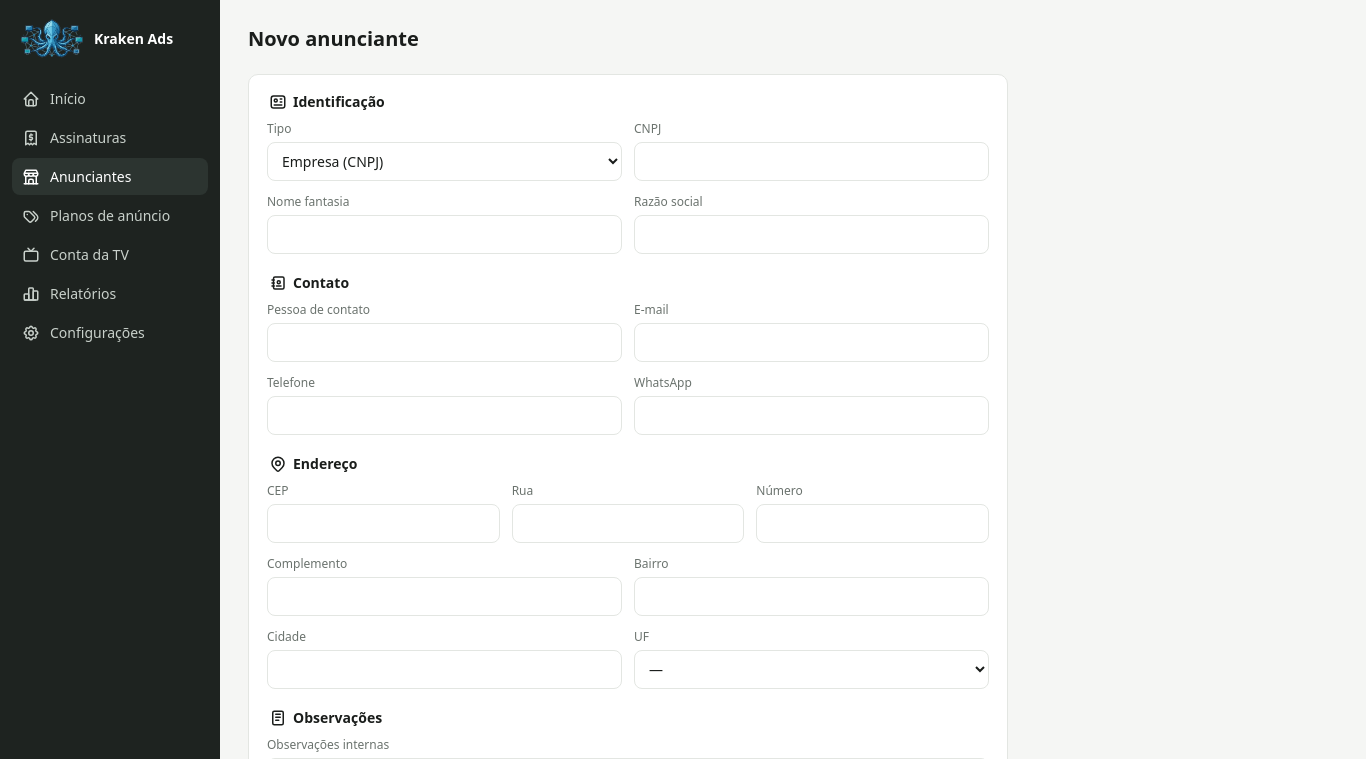
advertisers › creates a company with masked inputs sending digits only
Type "Clínica Vida" into the field labelled "Nome fantasia" at (444, 234), box [267,215,622,254]
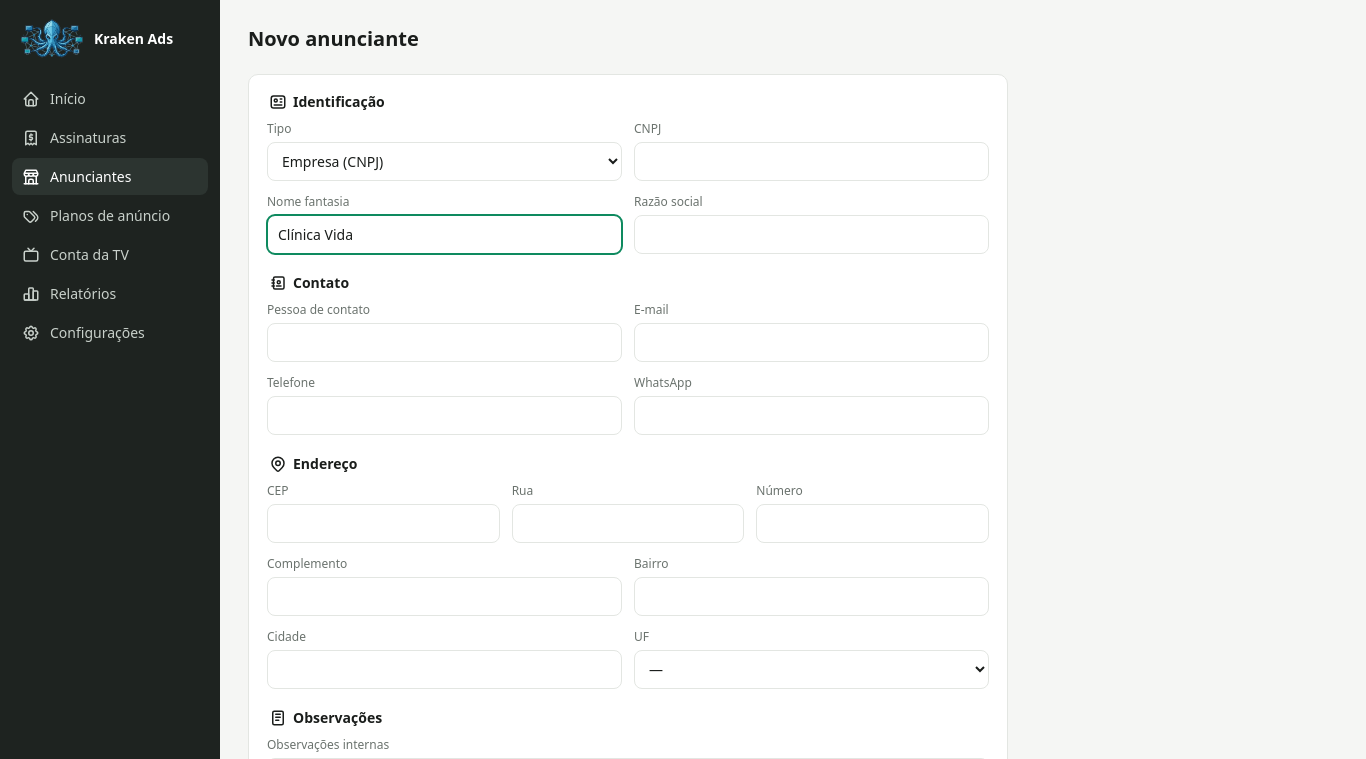
Type "11222333000181" into the field labelled "CNPJ" at (812, 162), box [634,142,989,181]
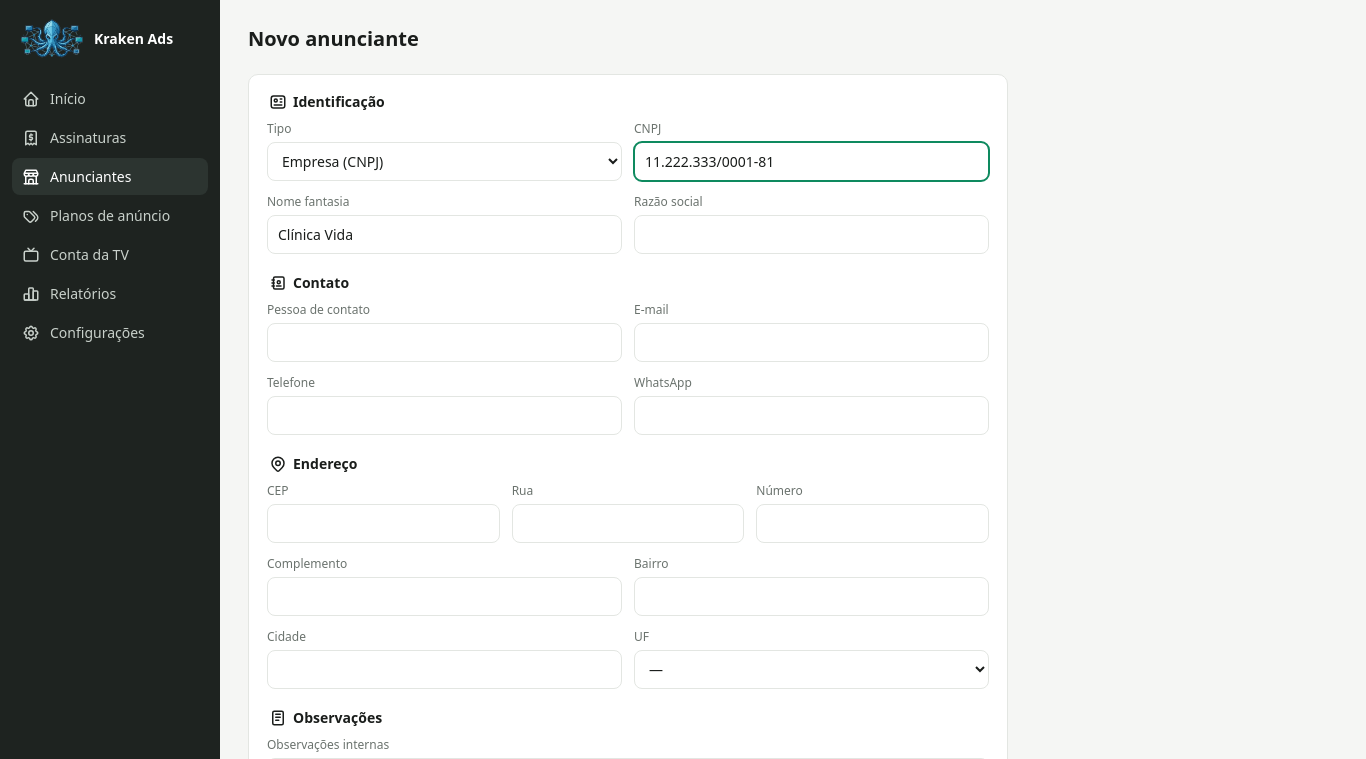
Expected: the field labelled "CNPJ" holds "11.222.333/0001-81", [634,142,989,181]
Type "01001000" into the field labelled "CEP" at (383, 524), box [267,504,500,543]
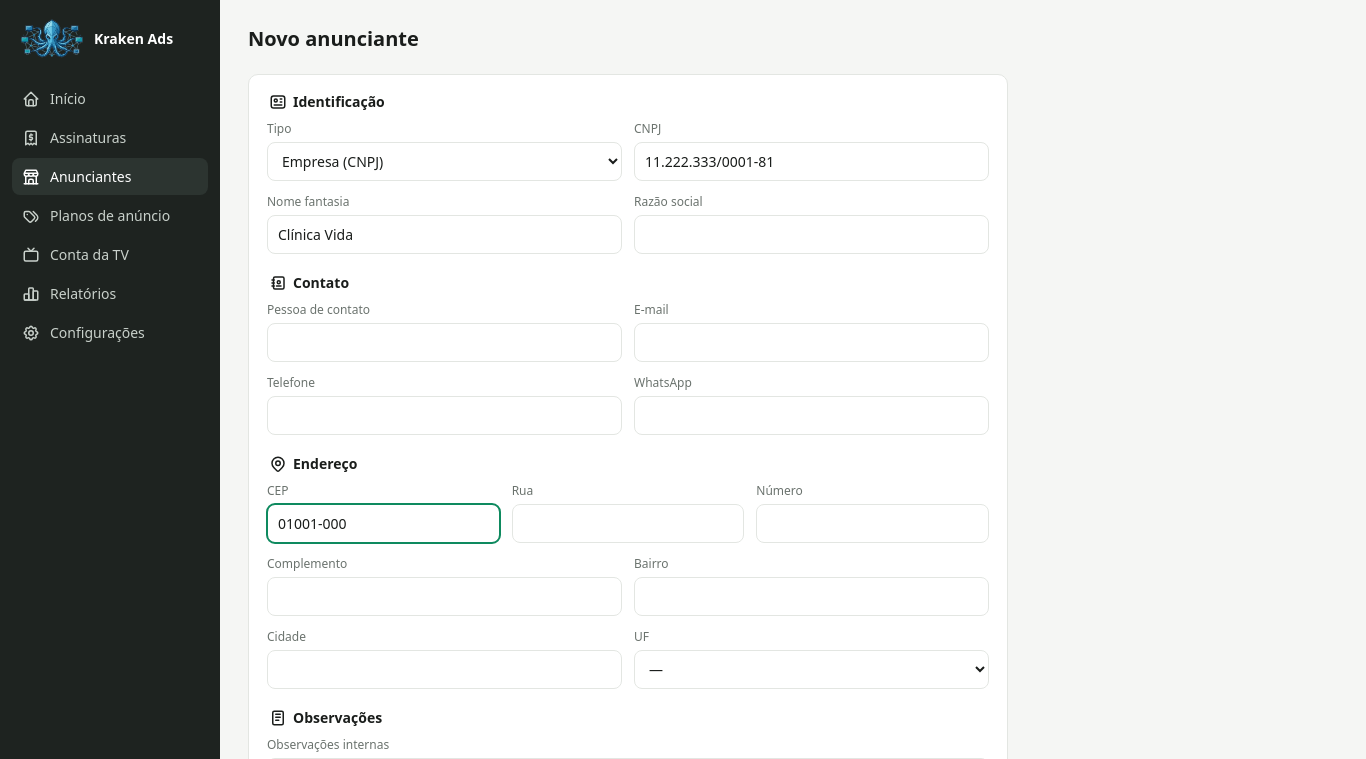
Select "SP" in the dropdown labelled "UF" at (812, 670), box [634,650,989,689]
(page scrolled)
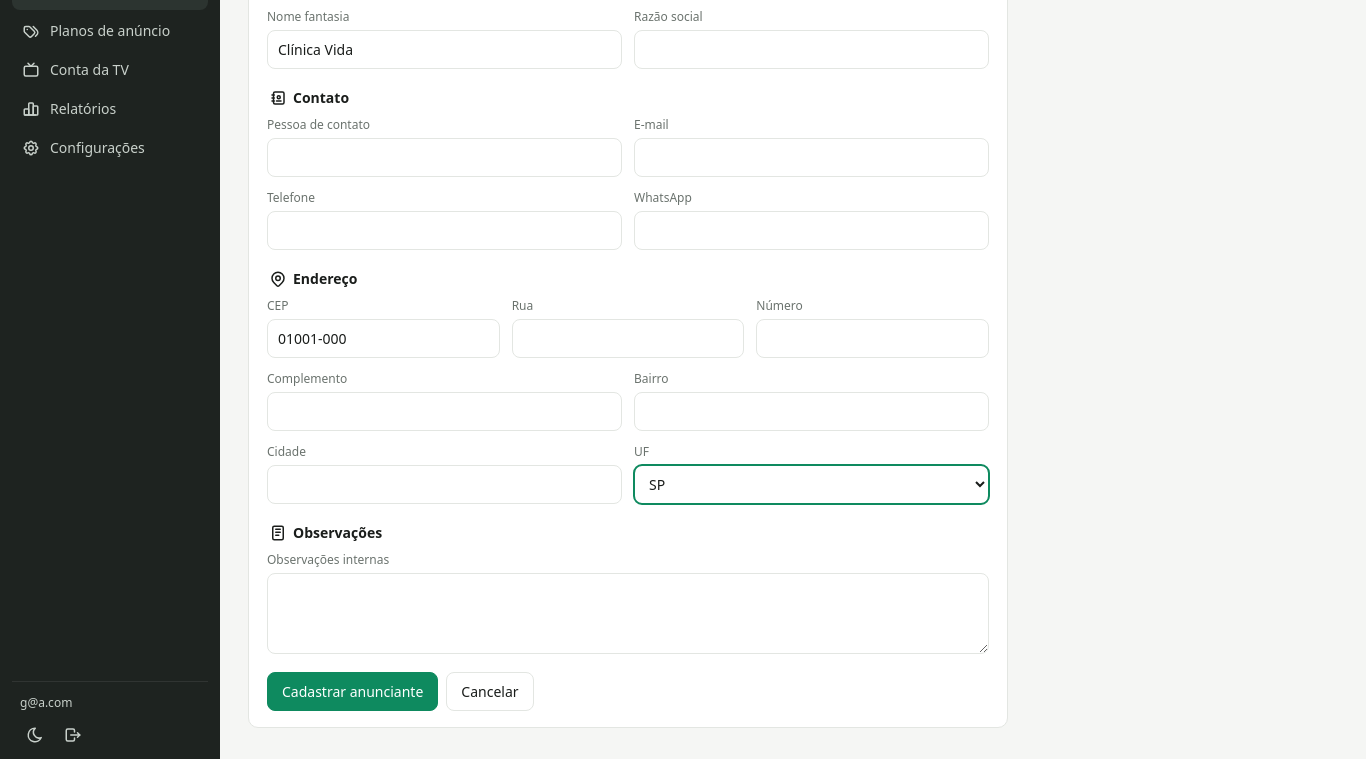
Click the button "Cadastrar anunciante" at (353, 692), box [267,672,438,711]
(page scrolled)
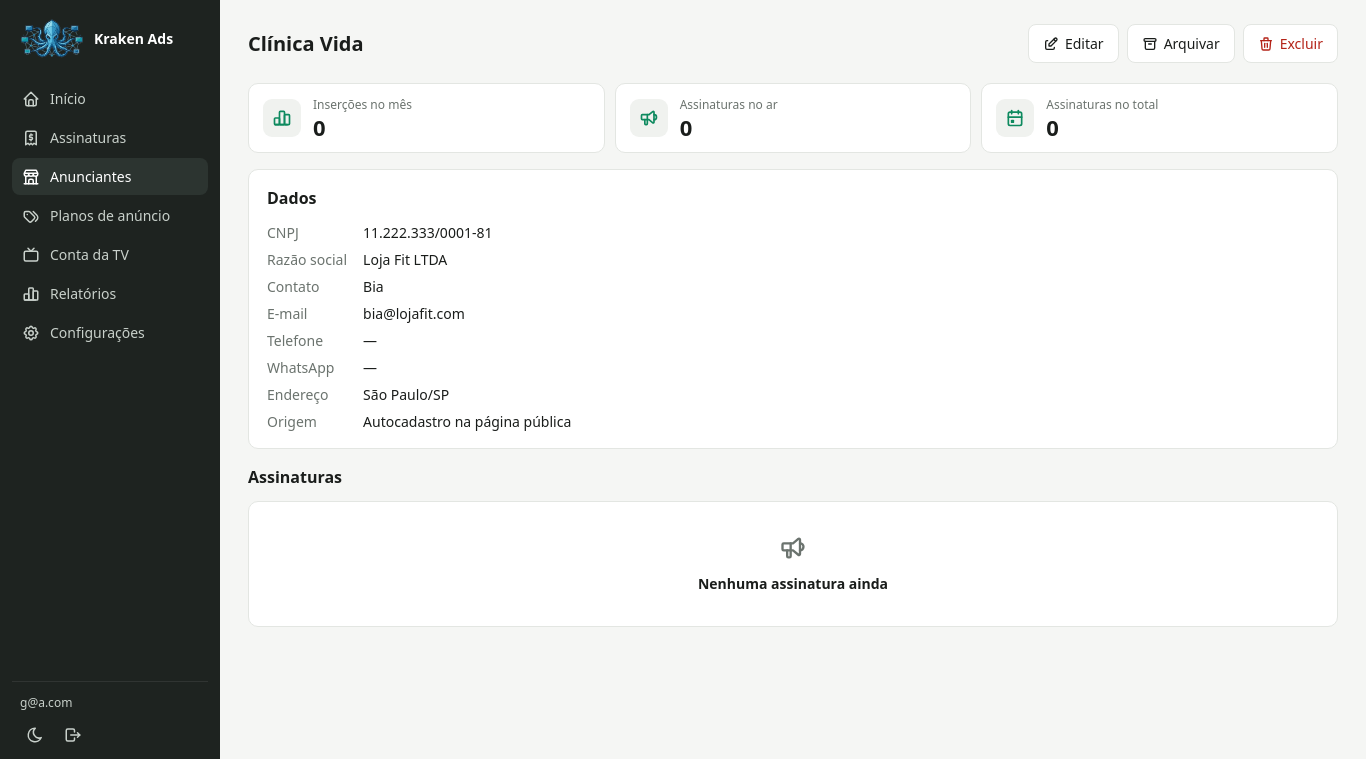
Expected: the heading "Clínica Vida" is shown, [248,28,364,58]
